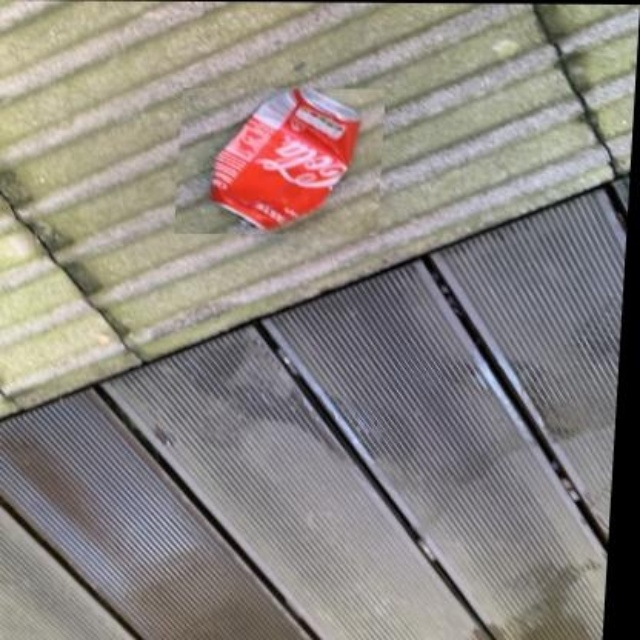trash: (211, 86, 358, 229)
